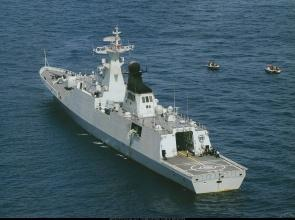otherboat: (264, 62, 283, 74), (206, 59, 222, 71)
warship: (32, 22, 252, 192)
